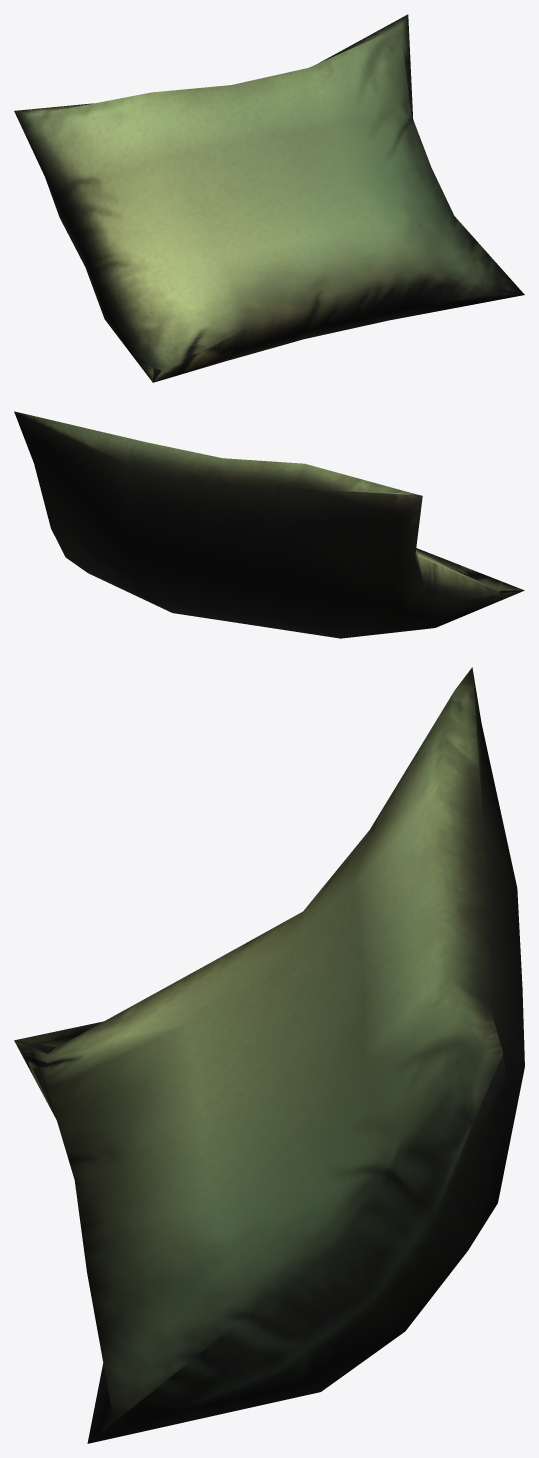
Rendered from travesseiro2.fbx.
3 renders of one model, top to bottom at view 1: azimuth 30°, elevation 25°; view 2: azimuth 150°, elevation 25°; view 3: azimuth 270°, elevation 25°, orthographic. The views are drawn at different scales.
Visible parts, largest first — view 1: travesseiro2; view 2: travesseiro2; view 3: travesseiro2.
Boxes of the visible parts, x1,y1,x2,y2 form: travesseiro2: (14, 14, 524, 382); travesseiro2: (14, 411, 524, 638); travesseiro2: (14, 667, 524, 1443).
Size of the model in its own units: 54.08 by 28.45 by 30.81.
Materials: 1 (1 with a texture image).
